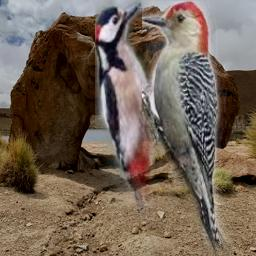Woodpecker: (142, 1, 231, 256), (95, 0, 158, 255)
